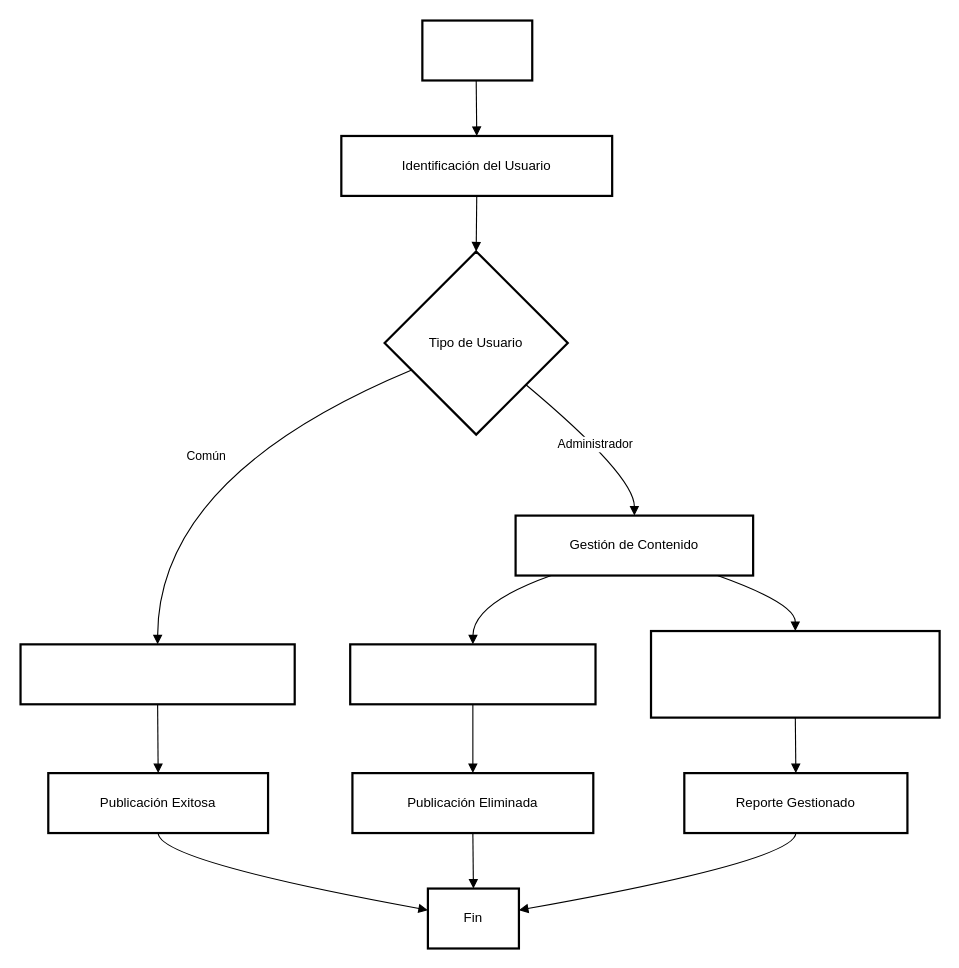
This 959x968 diagram has some shape labels left out. The shapes that lost their labels are listed below. From the top down, each one's centre as x and y in pixels, then its label:
At pixel 477 50: "Inicio".
At pixel 157 674: "Creación de Publicaciones".
At pixel 472 674: "Eliminar Publicaciones".
At pixel 794 673: "Revisar Reportes de Contenido".
